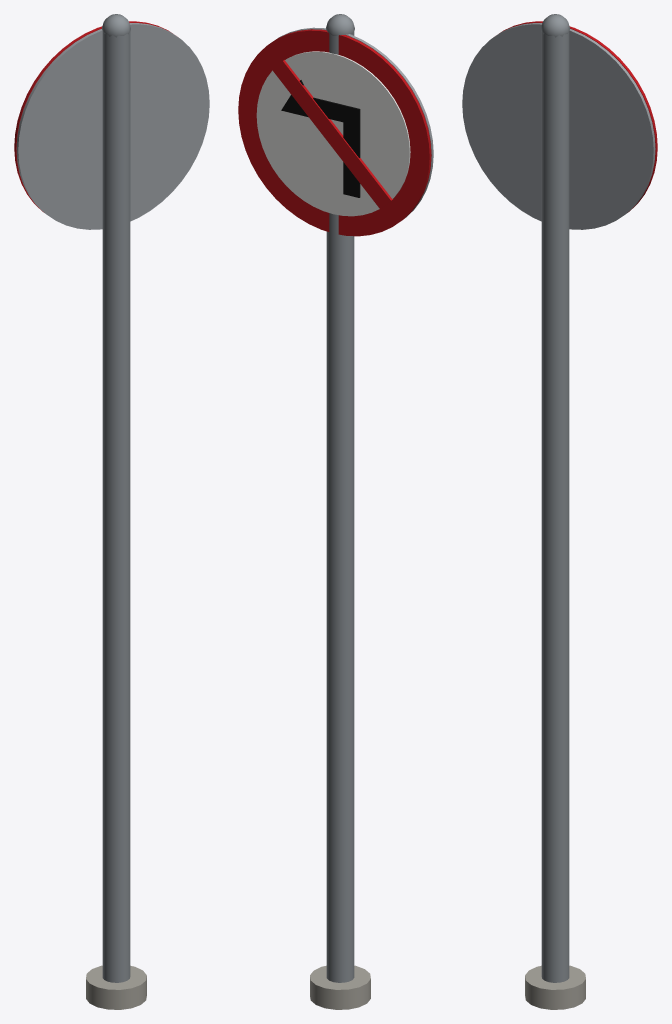
Rendered from Sign_NoRightTurn.fbx.
3 views of the same model, side by side, from view 1: azimuth 30°, elevation 25°; view 2: azimuth 150°, elevation 25°; view 3: azimuth 330°, elevation 25° (orthographic).
Visible parts, largest first — view 1: Sign_NoRightTurn_Mesh; view 2: Sign_NoRightTurn_Mesh; view 3: Sign_NoRightTurn_Mesh.
Boxes of the visible parts, bbox=[...] form: Sign_NoRightTurn_Mesh: bbox=[14, 14, 209, 1009]; Sign_NoRightTurn_Mesh: bbox=[238, 14, 433, 1009]; Sign_NoRightTurn_Mesh: bbox=[462, 14, 657, 1009].
Bounding box in the file's own units: 0.6 × 2.94 × 0.1672.
